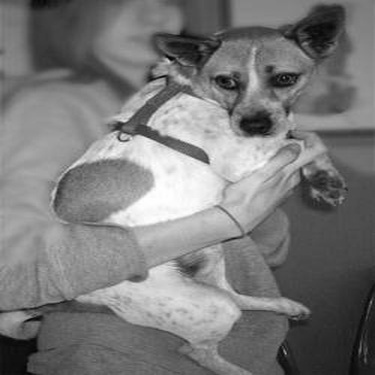dog: (47, 4, 351, 373)
